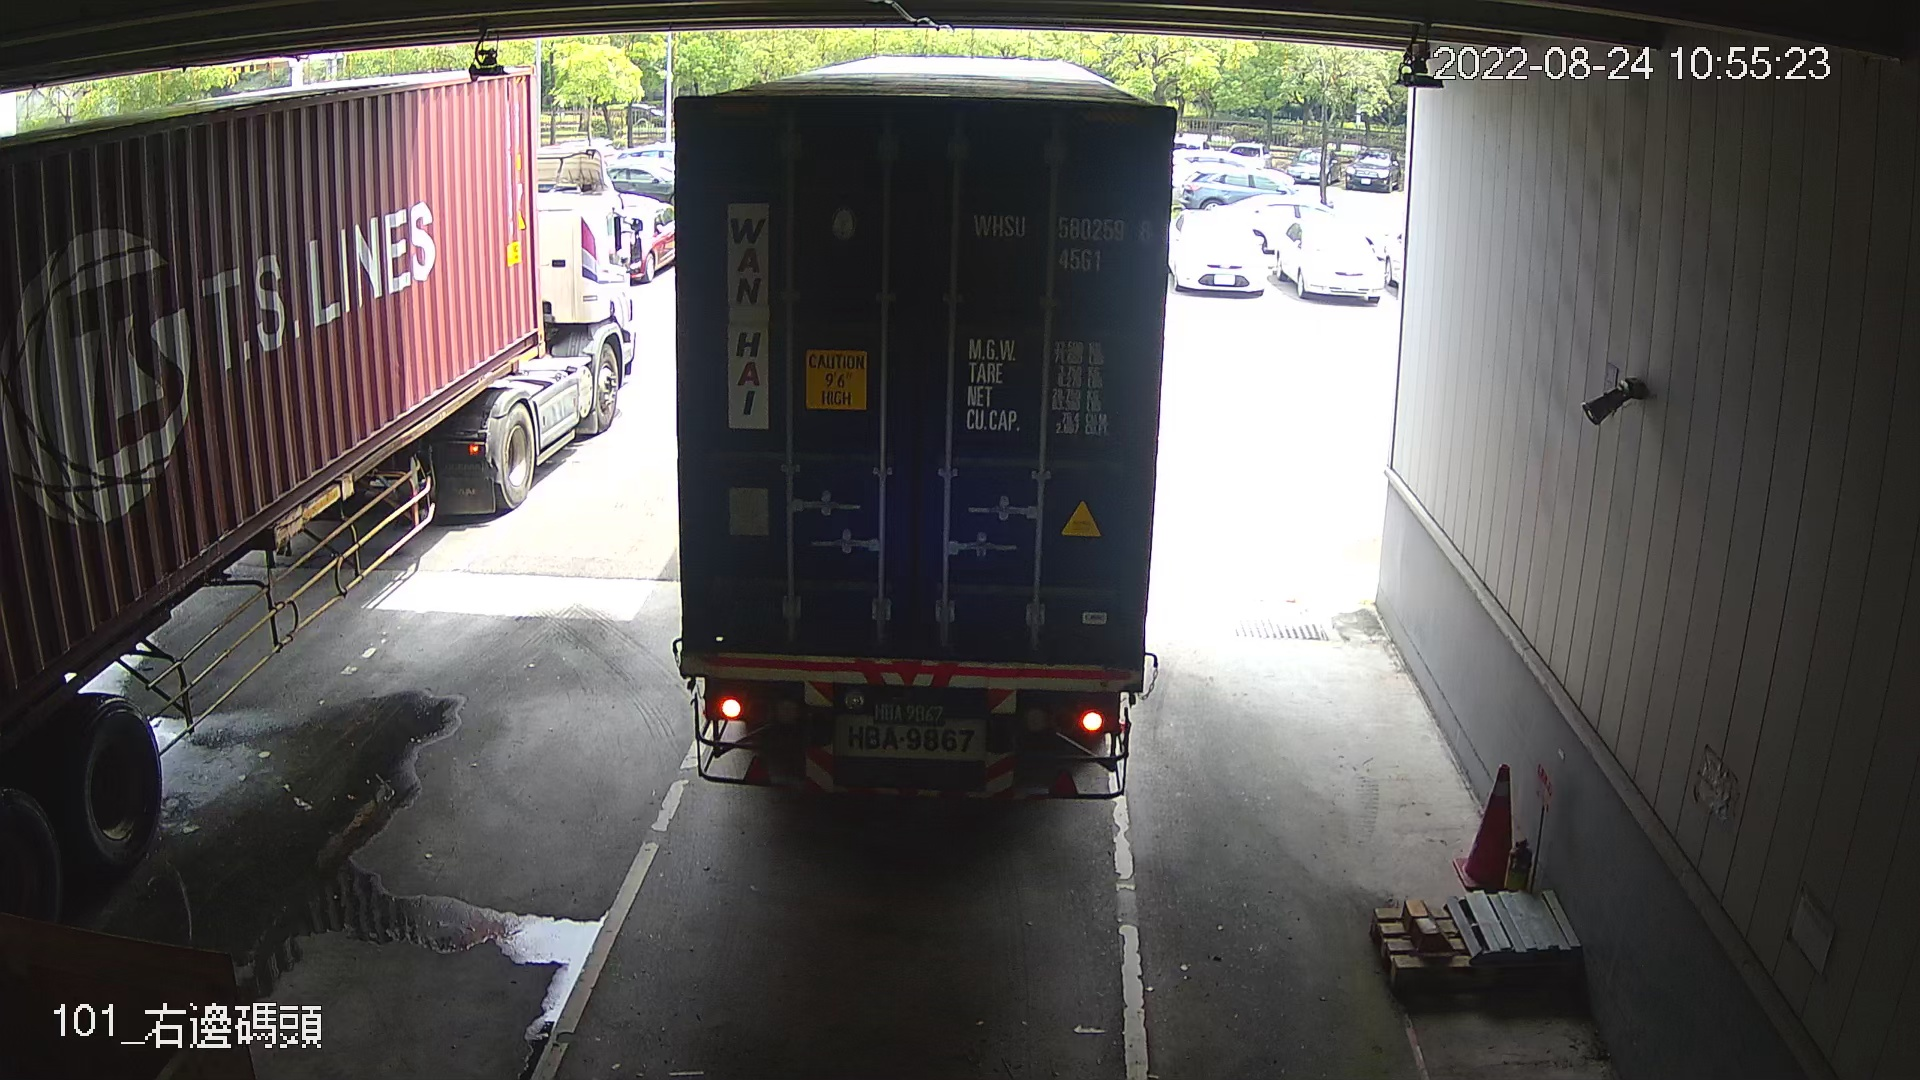container: (964, 202, 1160, 280)
